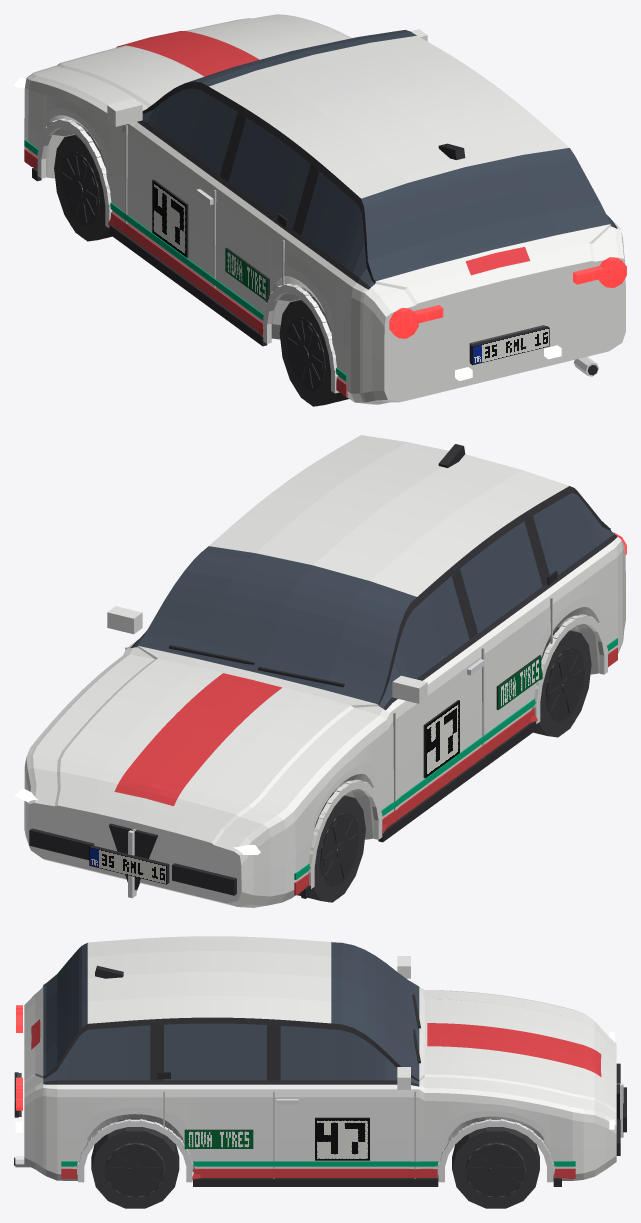
File: romola.glb
3 views of the same model, one above another, from view 1: azimuth 30°, elevation 25°; view 2: azimuth 150°, elevation 25°; view 3: azimuth 270°, elevation 25° (orthographic). The views are drawn at different scales.
Visible parts, largest first — view 1: body.004, livery.004, wheel_RL.004, wheel_FL.004; view 2: body.004, livery.004, wheel_FL.004, wheel_RL.004; view 3: body.004, livery.004, wheel_RR.004, wheel_FR.004.
Boxes of the visible parts, x1,y1,x2,y2 form: body.004: (14,14,626,404); livery.004: (24,31,530,396); wheel_RL.004: (279,296,348,406); wheel_FL.004: (54,131,112,241); body.004: (14,435,626,907); livery.004: (114,638,617,895); wheel_FL.004: (297,793,365,902); wheel_RL.004: (531,627,591,737); body.004: (14,936,626,1186); livery.004: (31,1019,601,1179); wheel_RR.004: (91,1118,179,1208); wheel_FR.004: (452,1119,539,1208).
Bounding box in the file's own units: 2.1 × 1.54 × 4.47.
Materials: 16 (5 with a texture image).
